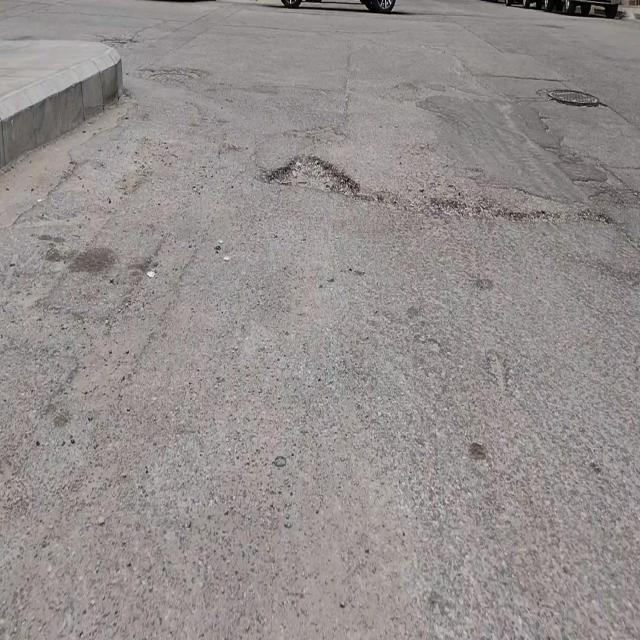Pothole: (264, 152, 359, 197)
